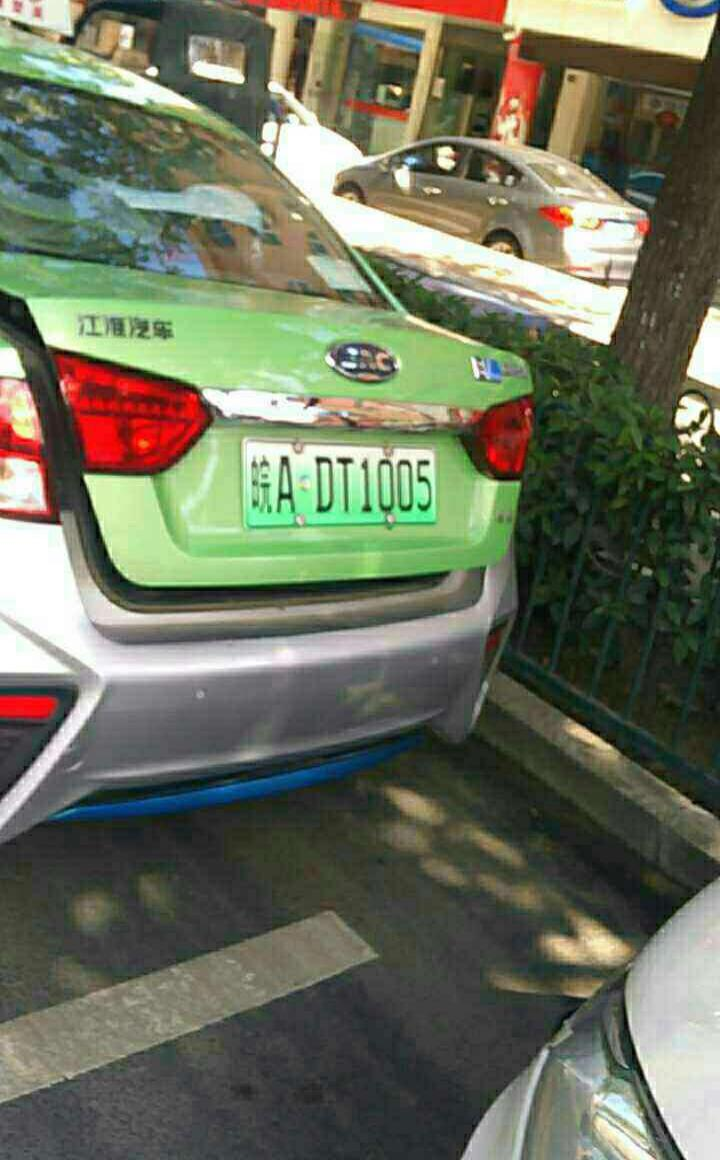car_id: (246, 442, 436, 525)
